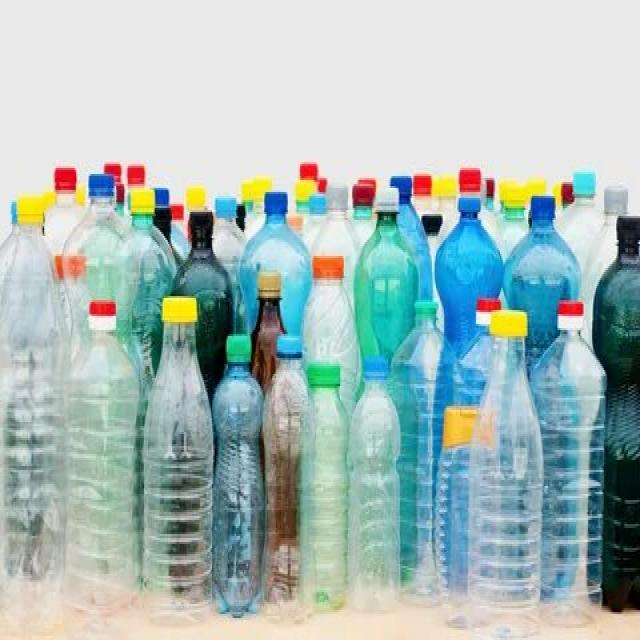blue: (214, 368, 264, 618)
brown: (253, 300, 280, 365)
green: (299, 388, 348, 614), (354, 212, 416, 335)
